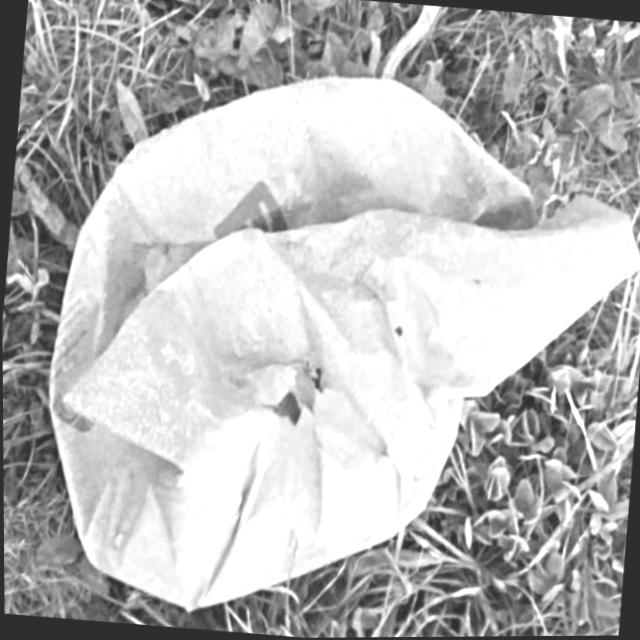Paper: (20, 44, 640, 640)
